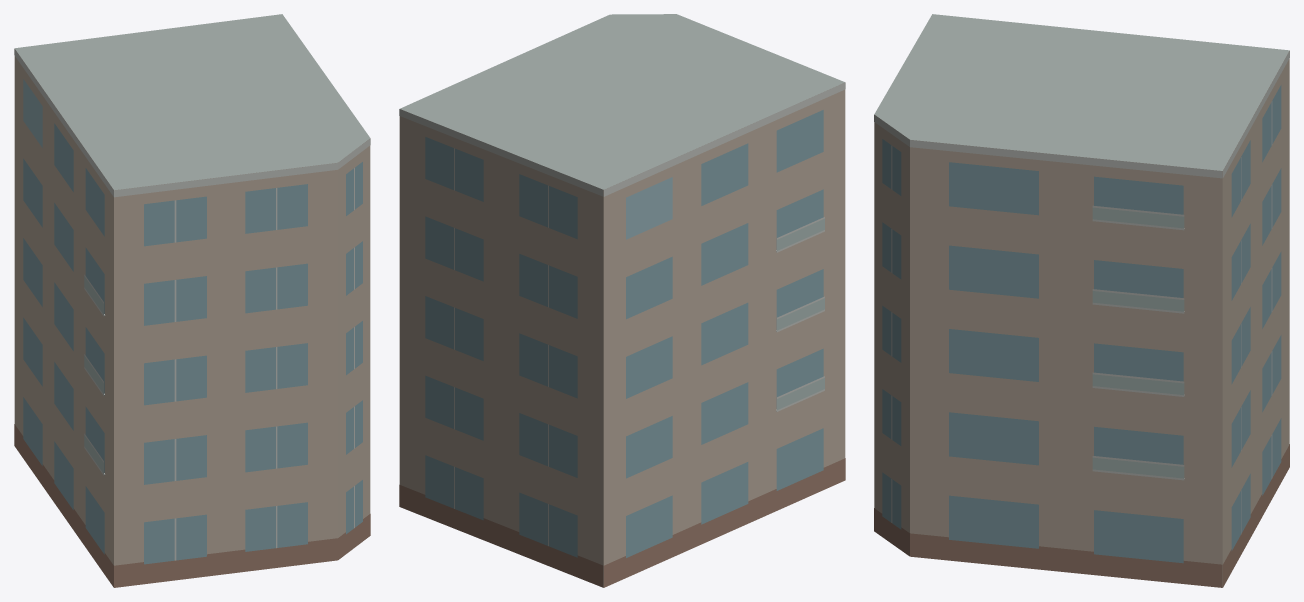
File: survey-upis-33033786.glb
3 views of the same model, side by side, from view 1: azimuth 30°, elevation 25°; view 2: azimuth 150°, elevation 25°; view 3: azimuth 270°, elevation 25° (orthographic). The views are drawn at different scales.
Parts seen in each view (by area): view 1: survey-upis-33033786.tmp; view 2: survey-upis-33033786.tmp; view 3: survey-upis-33033786.tmp.
Part boxes in pixels (box(x1,y1,x2,y2)): survey-upis-33033786.tmp: box(14, 14, 370, 587); survey-upis-33033786.tmp: box(399, 14, 845, 587); survey-upis-33033786.tmp: box(874, 14, 1289, 587).
Bounding box in the file's own units: 11.08 × 13.7 × 12.39.
